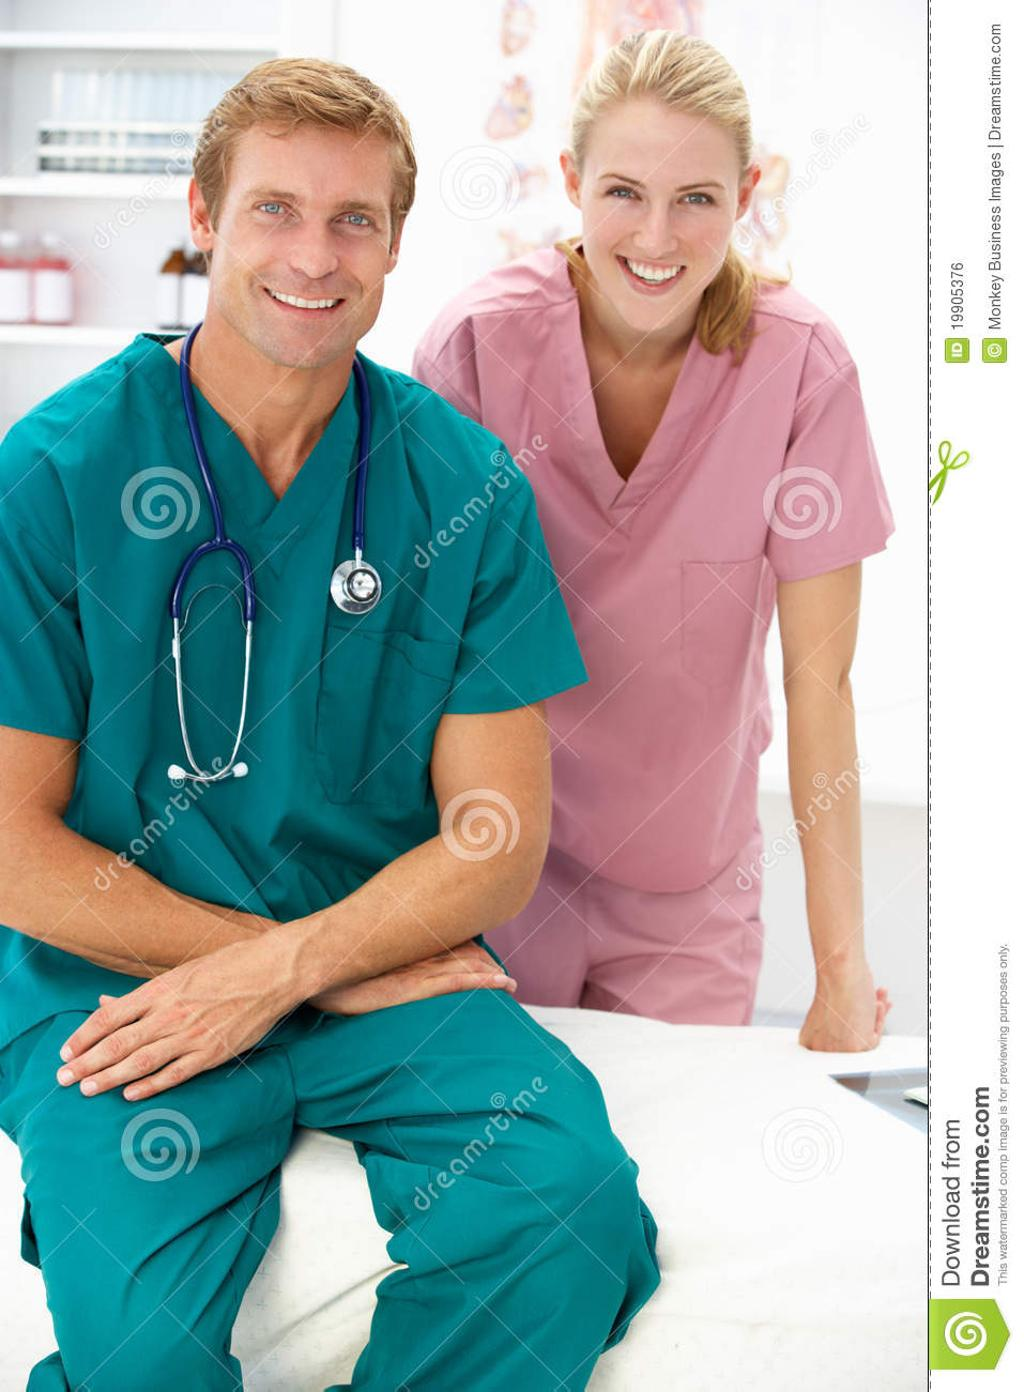face: (215, 98, 394, 372), (579, 95, 739, 337)
